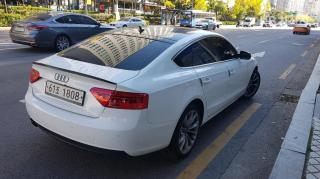0: (70, 90, 74, 100)
1: (52, 85, 56, 94), (62, 88, 66, 96)
6: (48, 83, 52, 92)
8: (74, 91, 81, 101), (66, 88, 71, 98)
조: (56, 85, 60, 95)
